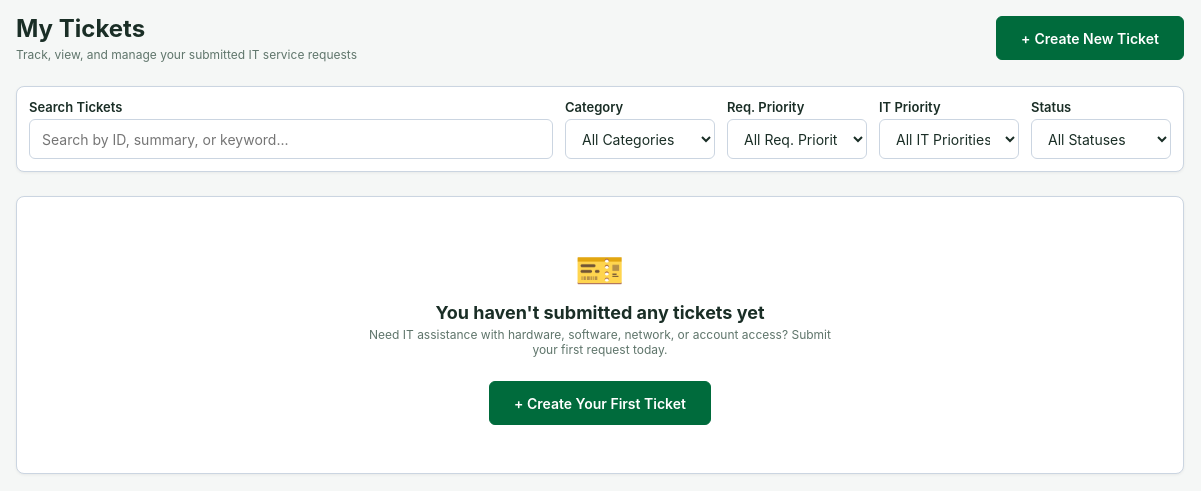
Test: UI-05: MyTickets Component (Table, Search, Filter, Empty vs No-Results) › renders No-Results State when search filter finds no matches
# Type in search box
In the field with test id "ticket-search-input": (291, 139) [29, 119, 553, 159], type "NonexistentQuery123"
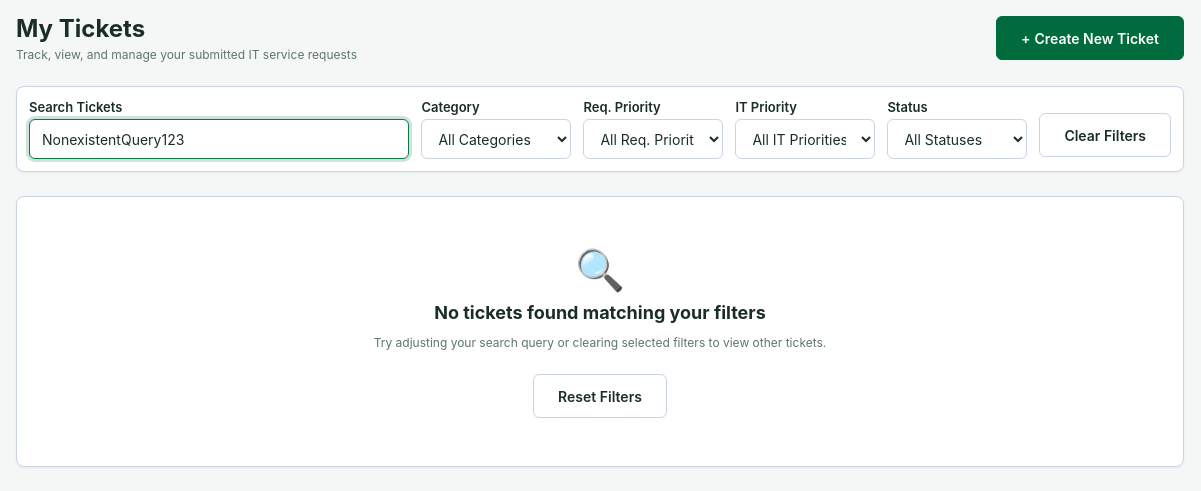
Result: the element with test id "no-results-state" is shown at [16, 196, 1184, 467]
Result: the heading "No tickets found matching your filters" is shown at [434, 302, 766, 323]
